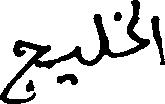X: (0, 35, 50, 103), (114, 0, 146, 62), (58, 41, 77, 89), (93, 9, 107, 69), (153, 11, 164, 69)
